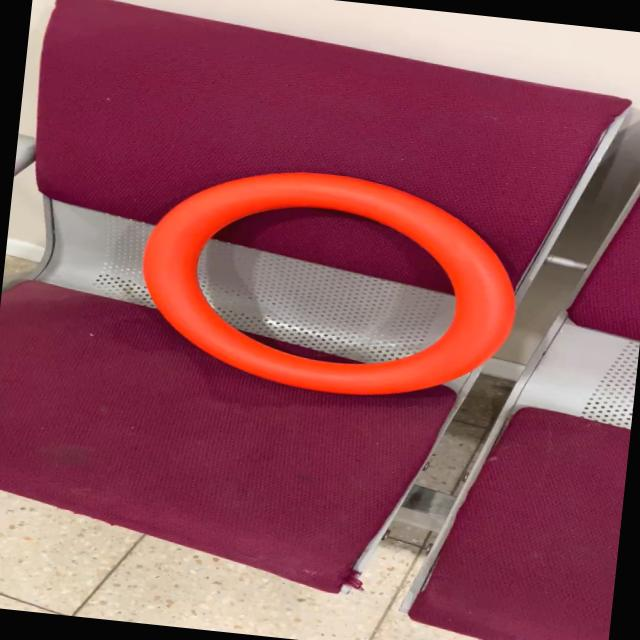note: (127, 153, 531, 413)
